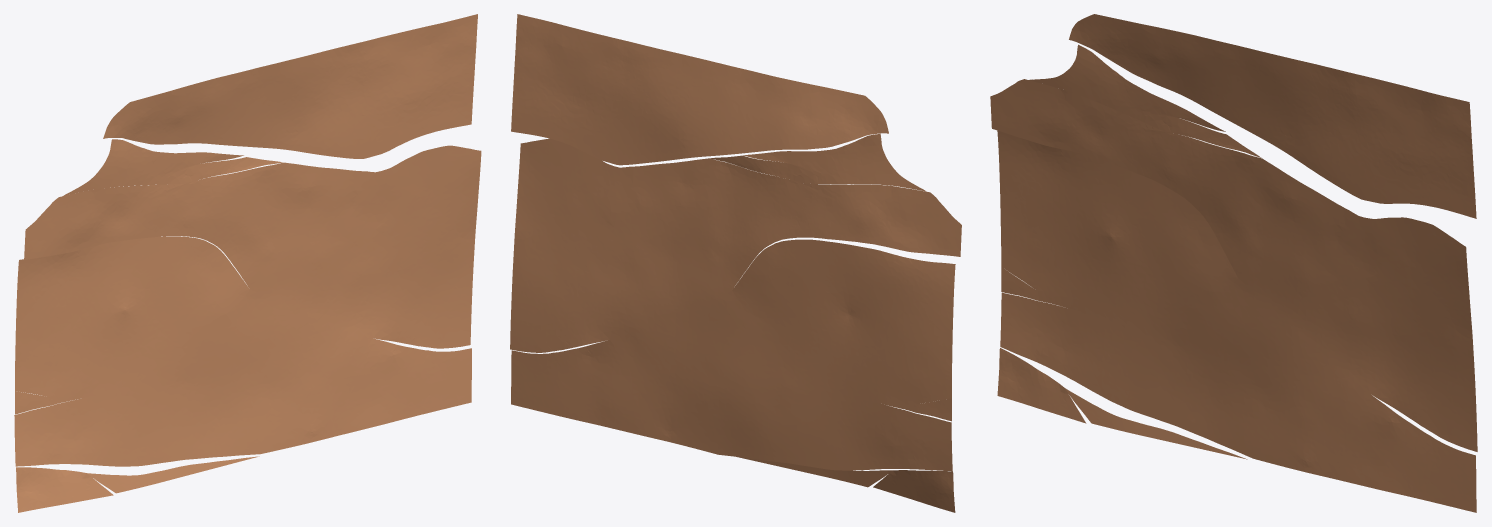
The model's file is 11_AirdrieVirtuewellCoal_50m_GGERFS_Predrill.gltf.
The picture shows the model from 3 angles, left to right: view 1: azimuth 30°, elevation 25°; view 2: azimuth 150°, elevation 25°; view 3: azimuth 330°, elevation 25°; orthographic projection. The views are drawn at different scales.
Parts seen in each view (by area): view 1: 11_AIRDRIEVIRTUEWELLCOAL_50M_GGERFS_PREDRILL; view 2: 11_AIRDRIEVIRTUEWELLCOAL_50M_GGERFS_PREDRILL; view 3: 11_AIRDRIEVIRTUEWELLCOAL_50M_GGERFS_PREDRILL.
Part boxes in pixels (<box>): 11_AIRDRIEVIRTUEWELLCOAL_50M_GGERFS_PREDRILL: <box>14,14,481,512</box>; 11_AIRDRIEVIRTUEWELLCOAL_50M_GGERFS_PREDRILL: <box>510,14,961,512</box>; 11_AIRDRIEVIRTUEWELLCOAL_50M_GGERFS_PREDRILL: <box>990,14,1477,512</box>.
Bounding box in the file's own units: 5005 × 4150 × 267.
